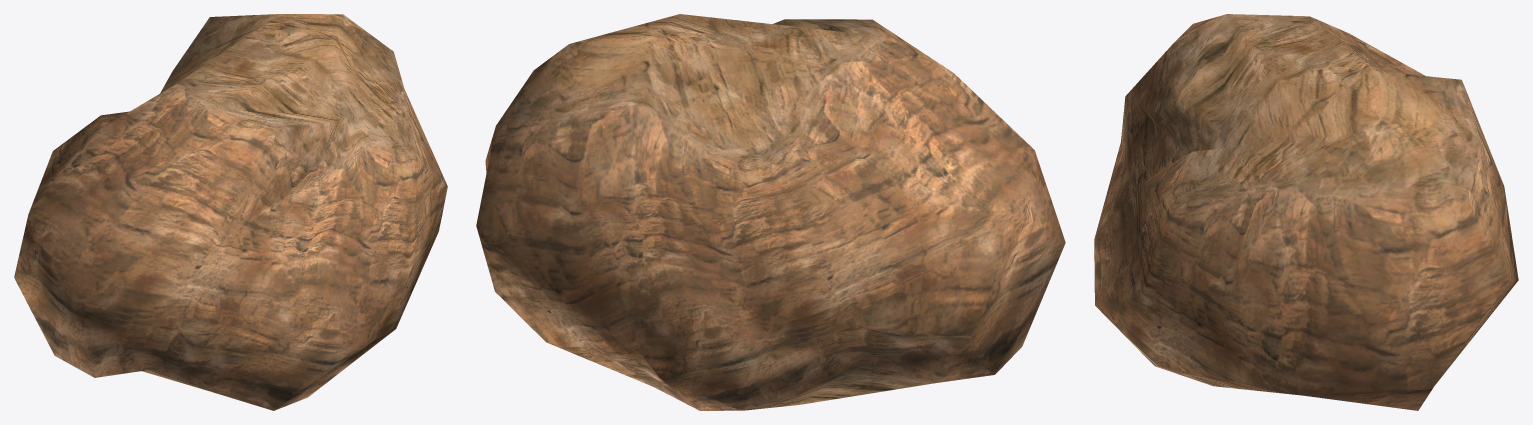
The model's file is rock_tatt_bensmesa_boulder_a5_l1.fbx.
The picture shows the model from 3 angles, left to right: view 1: azimuth 30°, elevation 25°; view 2: azimuth 150°, elevation 25°; view 3: azimuth 270°, elevation 25°; orthographic projection. The views are drawn at different scales.
Visible parts, largest first — view 1: mesh_node; view 2: mesh_node; view 3: mesh_node.
Boxes of the visible parts, box(x1,y1,x2,y2) form: mesh_node: box(14, 14, 447, 410); mesh_node: box(476, 14, 1065, 410); mesh_node: box(1094, 14, 1518, 410).
Size of the model in its own units: 3.65 by 2.45 by 2.83.
